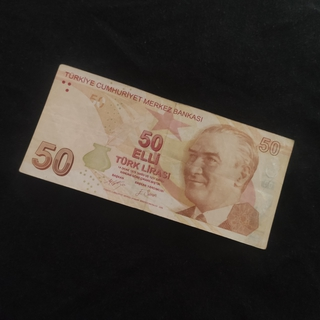50TLFront: (19, 64, 294, 249)
